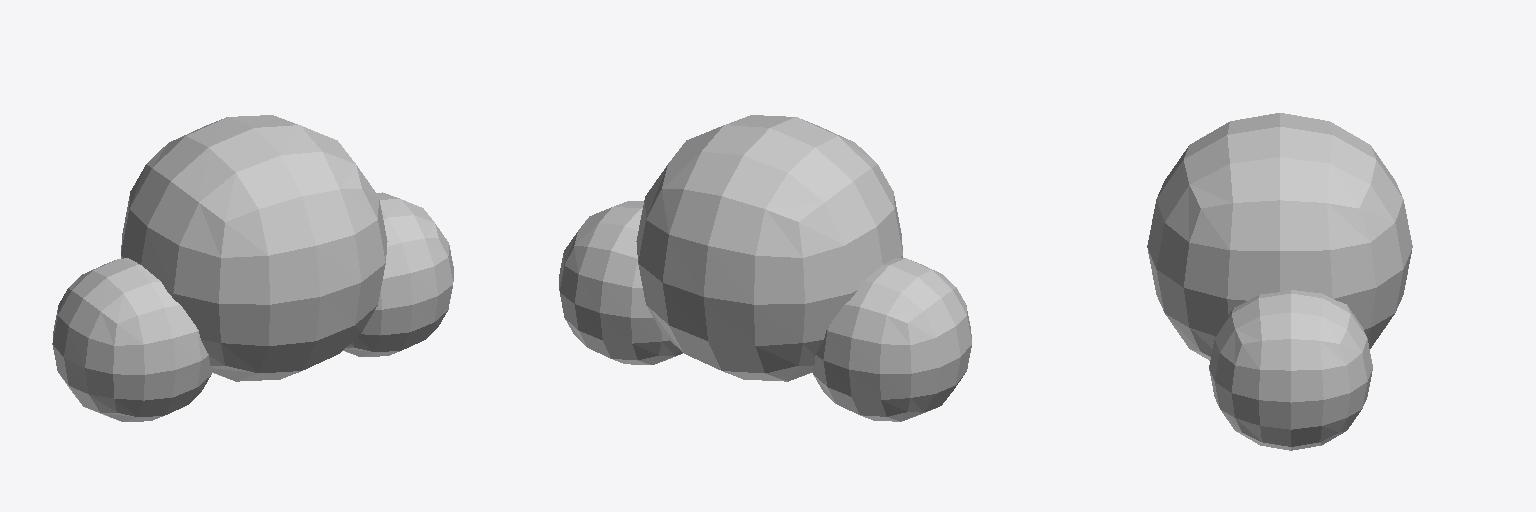
Rendered from cloud1.obj.
The picture shows the model from 3 angles: view 1: azimuth 30°, elevation 25°; view 2: azimuth 150°, elevation 25°; view 3: azimuth 270°, elevation 25°; orthographic projection.
Parts seen in each view (by area): view 1: cloud1; view 2: cloud1; view 3: cloud1.
Part boxes in pixels (x1,y1,x2,y2): cloud1: (52,115,453,421); cloud1: (559,115,971,421); cloud1: (1147,113,1412,450).
Bounding box in the file's own units: 3.35 × 2.14 × 2.